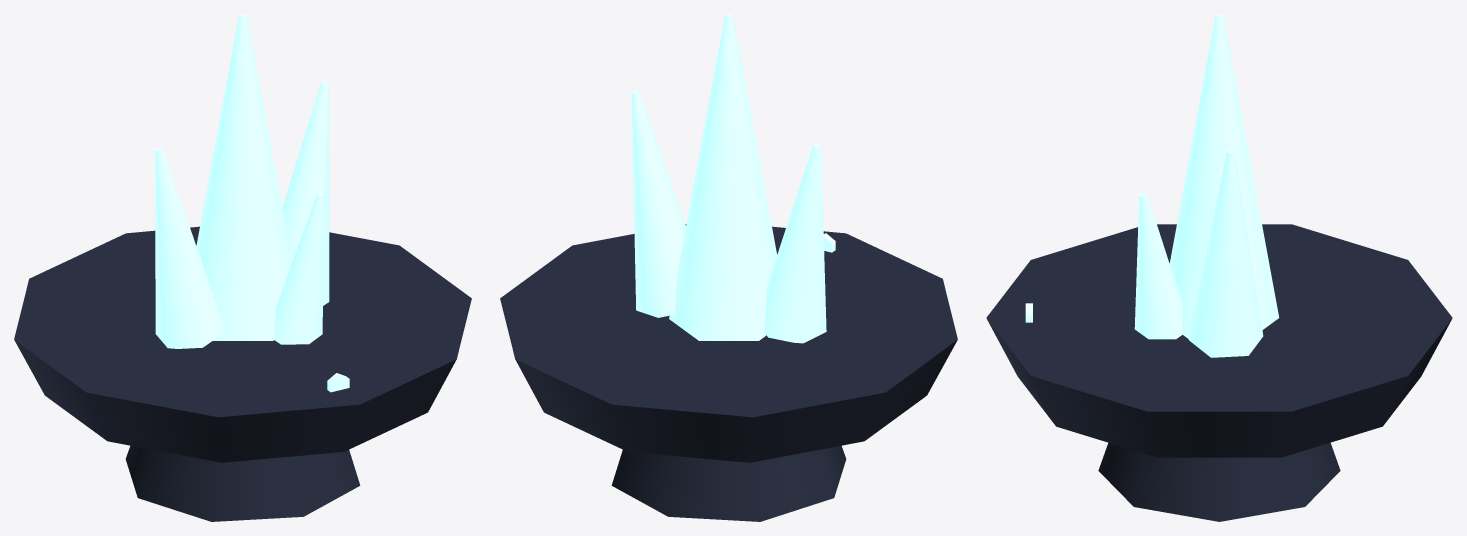
The model's file is AetherNode_Godot_v1.glb.
The picture shows the model from 3 angles, left to right: view 1: azimuth 30°, elevation 25°; view 2: azimuth 150°, elevation 25°; view 3: azimuth 270°, elevation 25°; orthographic projection.
Visible parts, largest first — view 1: StonePlinth, CrystalCore, FloatingCore, CrystalWest, CrystalFront, CrystalNorth; view 2: StonePlinth, CrystalCore, FloatingCore, CrystalNorth, CrystalWest; view 3: StonePlinth, CrystalCore, FloatingCore, CrystalNorth, CrystalFront.
Boxes of the visible parts, left/top/right/bottom form: StonePlinth: left=14, top=226, right=471, bottom=462; CrystalCore: left=196, top=14, right=292, bottom=340; FloatingCore: left=125, top=445, right=360, bottom=521; CrystalWest: left=155, top=147, right=223, bottom=348; CrystalFront: left=274, top=192, right=324, bottom=344; CrystalNorth: left=282, top=82, right=329, bottom=305; StonePlinth: left=500, top=224, right=957, bottom=462; CrystalCore: left=669, top=14, right=776, bottom=340; FloatingCore: left=611, top=445, right=846, bottom=521; CrystalNorth: left=631, top=90, right=685, bottom=317; CrystalWest: left=764, top=144, right=826, bottom=343; StonePlinth: left=986, top=224, right=1452, bottom=457; CrystalCore: left=1169, top=14, right=1279, bottom=338; FloatingCore: left=1098, top=442, right=1340, bottom=521; CrystalNorth: left=1188, top=149, right=1263, bottom=357; CrystalFront: left=1134, top=193, right=1182, bottom=339.
Bounding box in the file's own units: 4.95 × 5.6 × 5.2.
